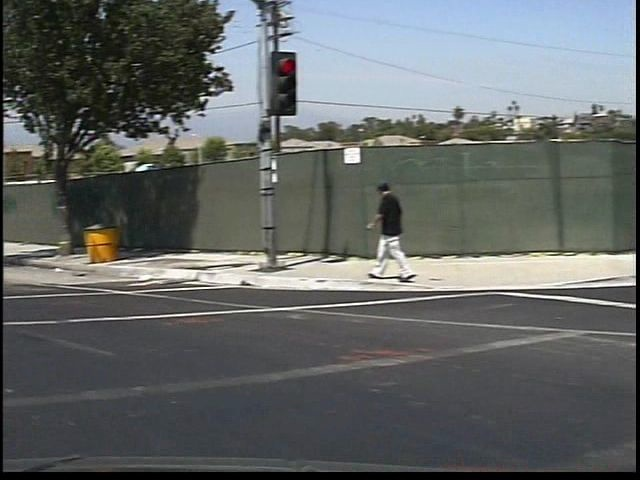person: (353, 162, 406, 286)
